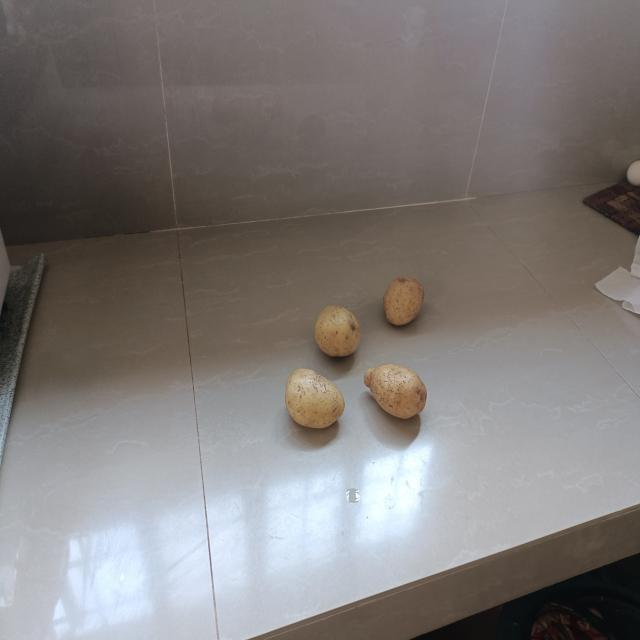potato: (283, 365, 346, 432), (363, 364, 431, 421), (314, 302, 364, 361), (382, 273, 426, 326)
